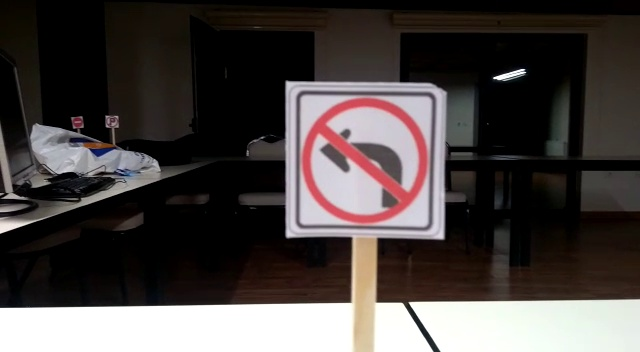sola_donulmez: (282, 93, 434, 232)
